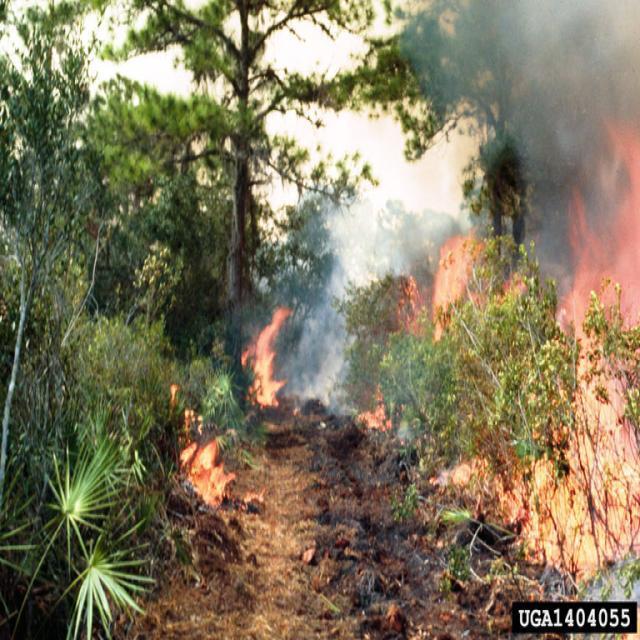Fire: (356, 121, 640, 588), (170, 384, 238, 510), (242, 308, 294, 410)
